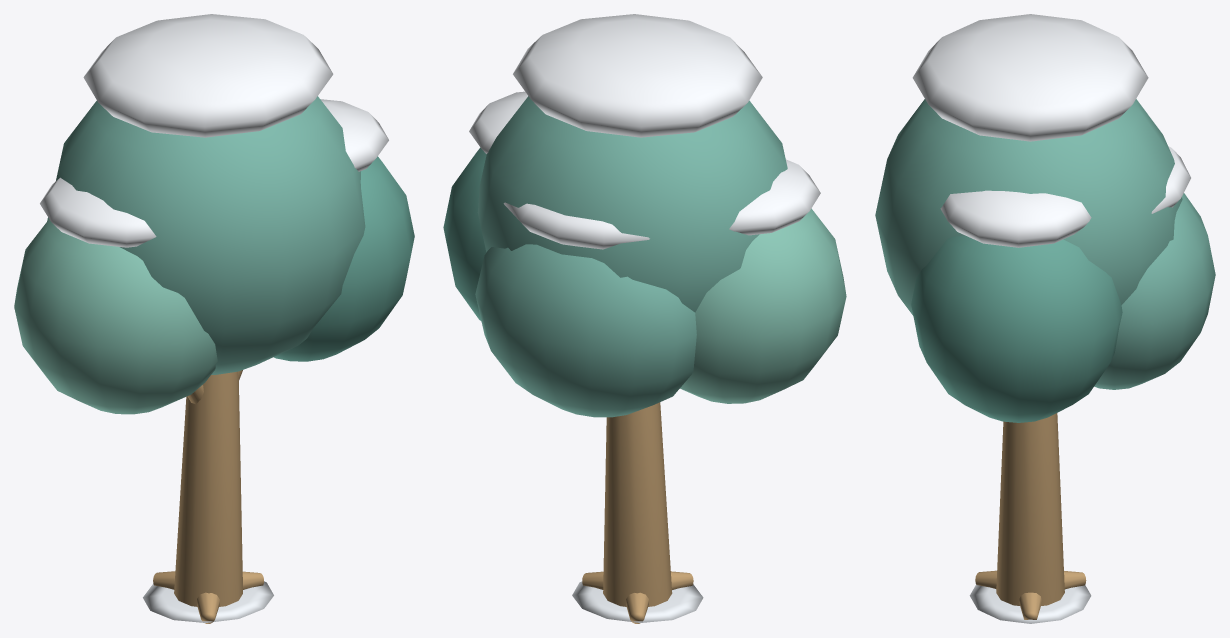
Rendered from tree_v1_winter.glb.
3 views of the same model, side by side, from view 1: azimuth 30°, elevation 25°; view 2: azimuth 150°, elevation 25°; view 3: azimuth 270°, elevation 25° (orthographic).
Bounding box in the file's own units: 3.6 × 5.14 × 2.85.
